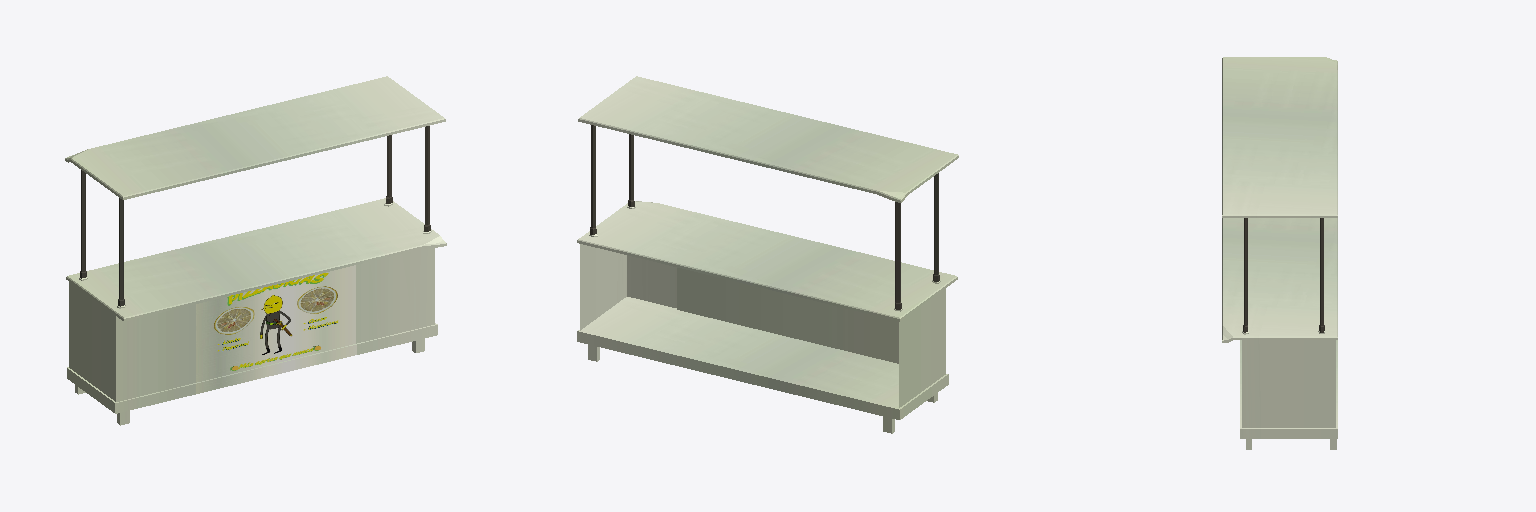
3 views of the same model, side by side, from view 1: azimuth 30°, elevation 25°; view 2: azimuth 150°, elevation 25°; view 3: azimuth 270°, elevation 25° (orthographic).
Visible parts, largest first — view 1: Puesto_Pizzas; view 2: Puesto_Pizzas; view 3: Puesto_Pizzas.
Boxes of the visible parts, x1=… form: Puesto_Pizzas: x1=65, y1=76, x2=446, y2=425; Puesto_Pizzas: x1=577, y1=76, x2=958, y2=433; Puesto_Pizzas: x1=1222, y1=57, x2=1337, y2=449.
Size of the model in its own units: 28.26 by 20.01 by 8.74.
1 materials, 1 textured.